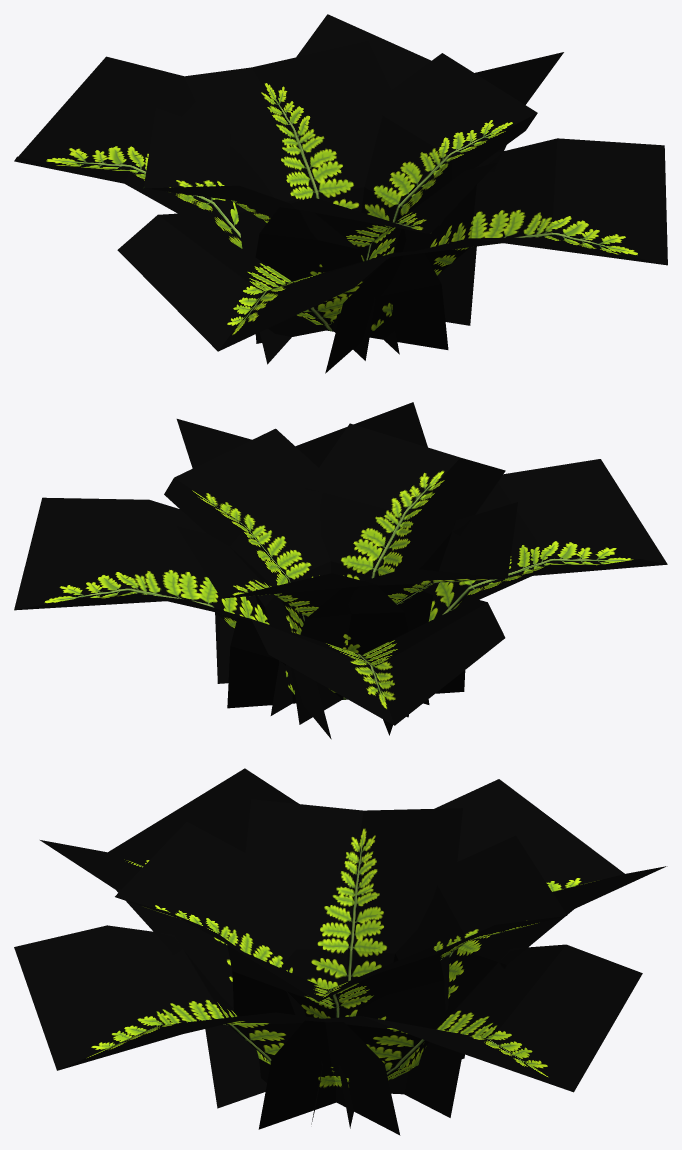
The model's file is SM_Fern1.fbx.
3 renders of one model, top to bottom at view 1: azimuth 30°, elevation 25°; view 2: azimuth 150°, elevation 25°; view 3: azimuth 270°, elevation 25°, orthographic. The views are drawn at different scales.
Visible parts, largest first — view 1: Fern1; view 2: Fern1; view 3: Fern1.
Part boxes in pixels (<box>): Fern1: <box>14,14,667,373</box>; Fern1: <box>14,402,667,739</box>; Fern1: <box>14,768,667,1135</box>.
Size of the model in its own units: 241 by 85.56 by 241.
1 material, 1 textured.
